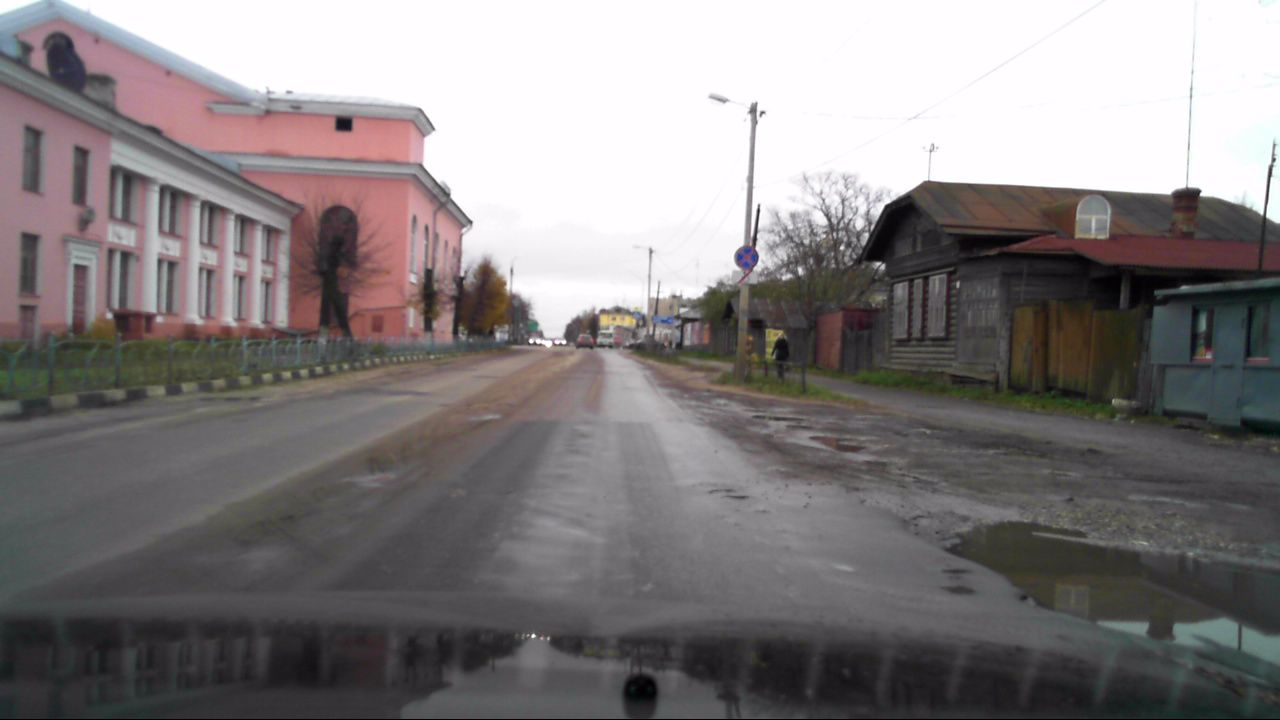No Parking: (734, 245, 758, 268)
